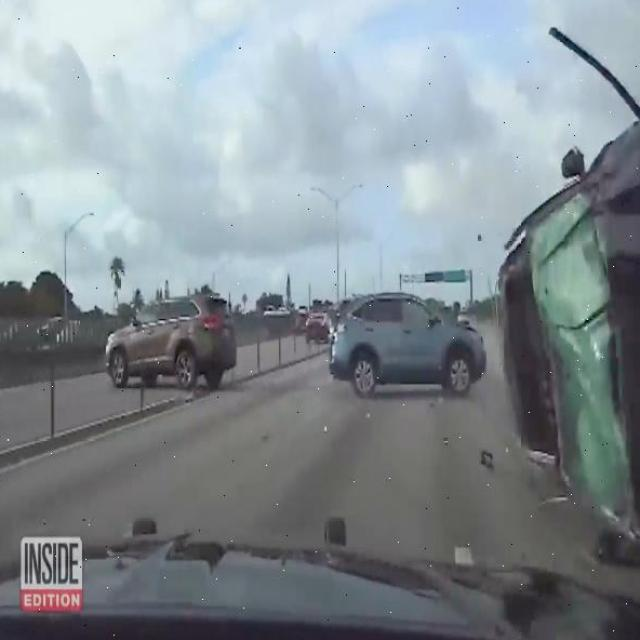accident: (496, 121, 640, 555)
